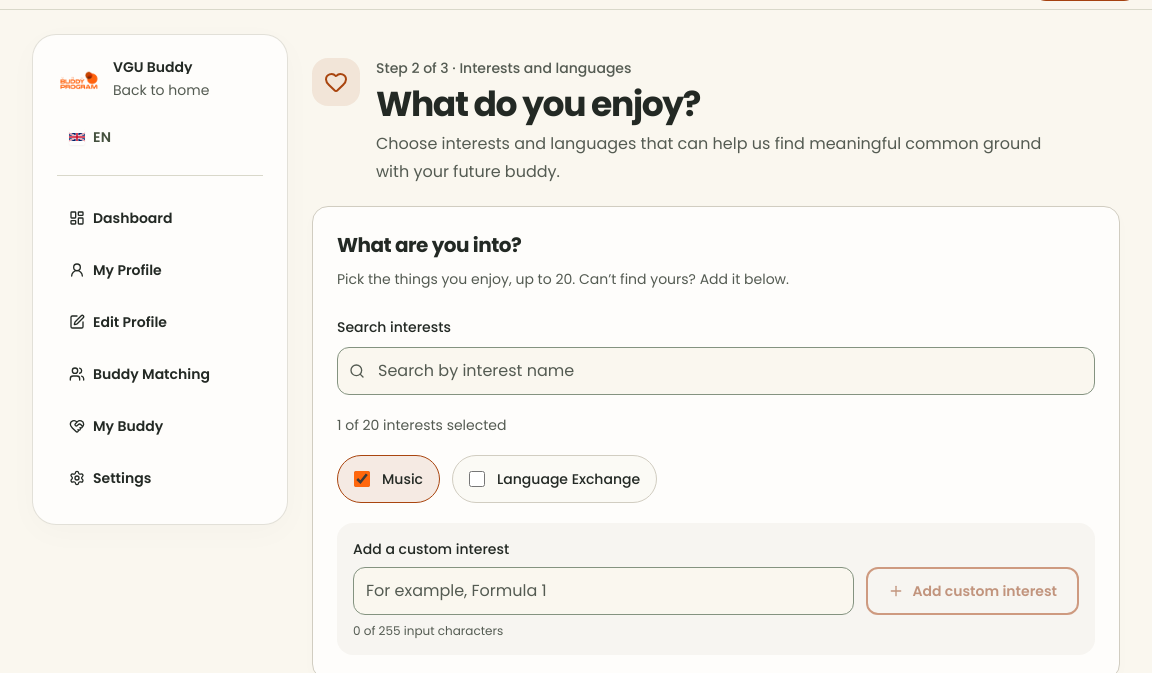
Scenario: FE-026 and PREF-004 interests and languages editor › resumes saved selections, filters the catalog and localizes stable IDs
This screenshot has width=1152, height=673.
Check: the heading "What do you enjoy?" is shown, box top-left (376, 80), bottom-right (700, 128)
Check: the checkbox labelled "Music" is checked, box top-left (354, 471), bottom-right (370, 487)
Type "language" into the search field labelled "Search interests" at (716, 371), box top-left (337, 347), bottom-right (1095, 395)
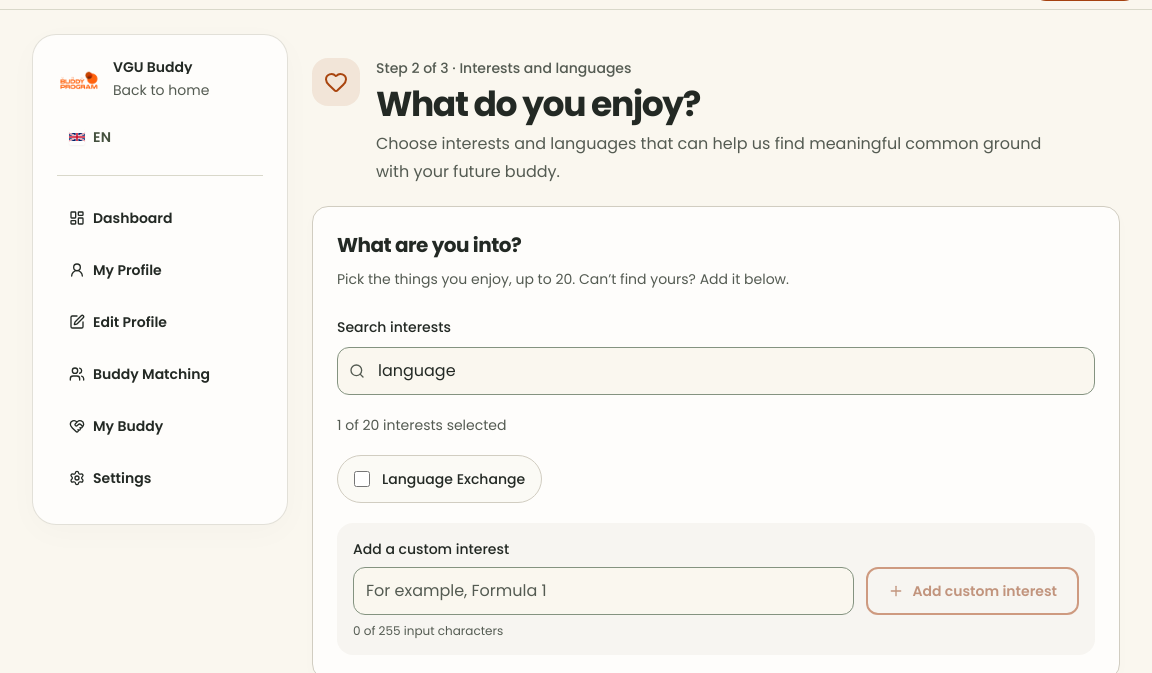
Check: the checkbox labelled "Language Exchange" is shown, box top-left (354, 471), bottom-right (370, 487)
Check: the text "Music" is gone
Click the button with aria-label "Current language: EN. Switch to German" at (90, 137), box top-left (57, 119), bottom-right (124, 155)
(page scrolled)
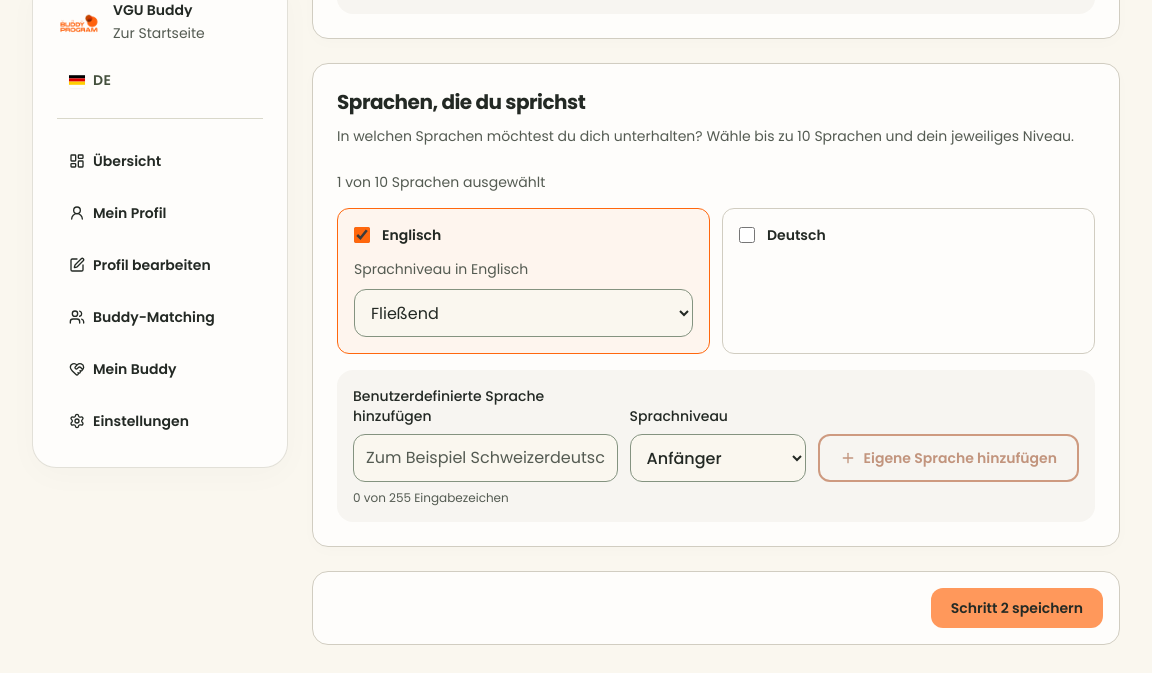
Check: the checkbox labelled "Englisch" is checked, box top-left (354, 227), bottom-right (370, 243)
Check: the dropdown labelled "Sprachniveau in Englisch" shows "Fließend", box top-left (354, 289), bottom-right (693, 337)
